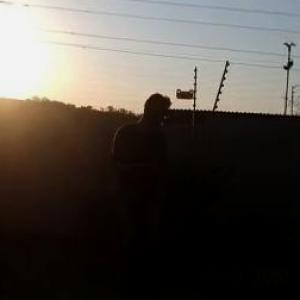follow: (102, 89, 175, 299)
